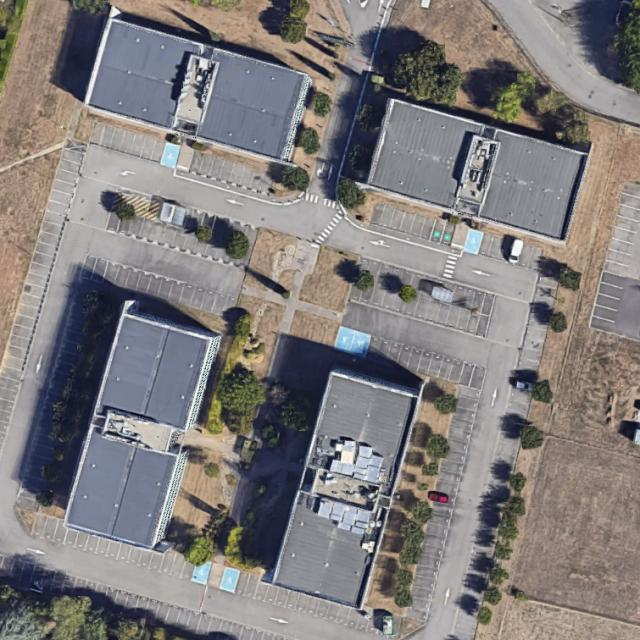immeuble: (60, 297, 224, 554), (270, 357, 428, 609), (80, 6, 315, 166), (364, 97, 587, 243)
